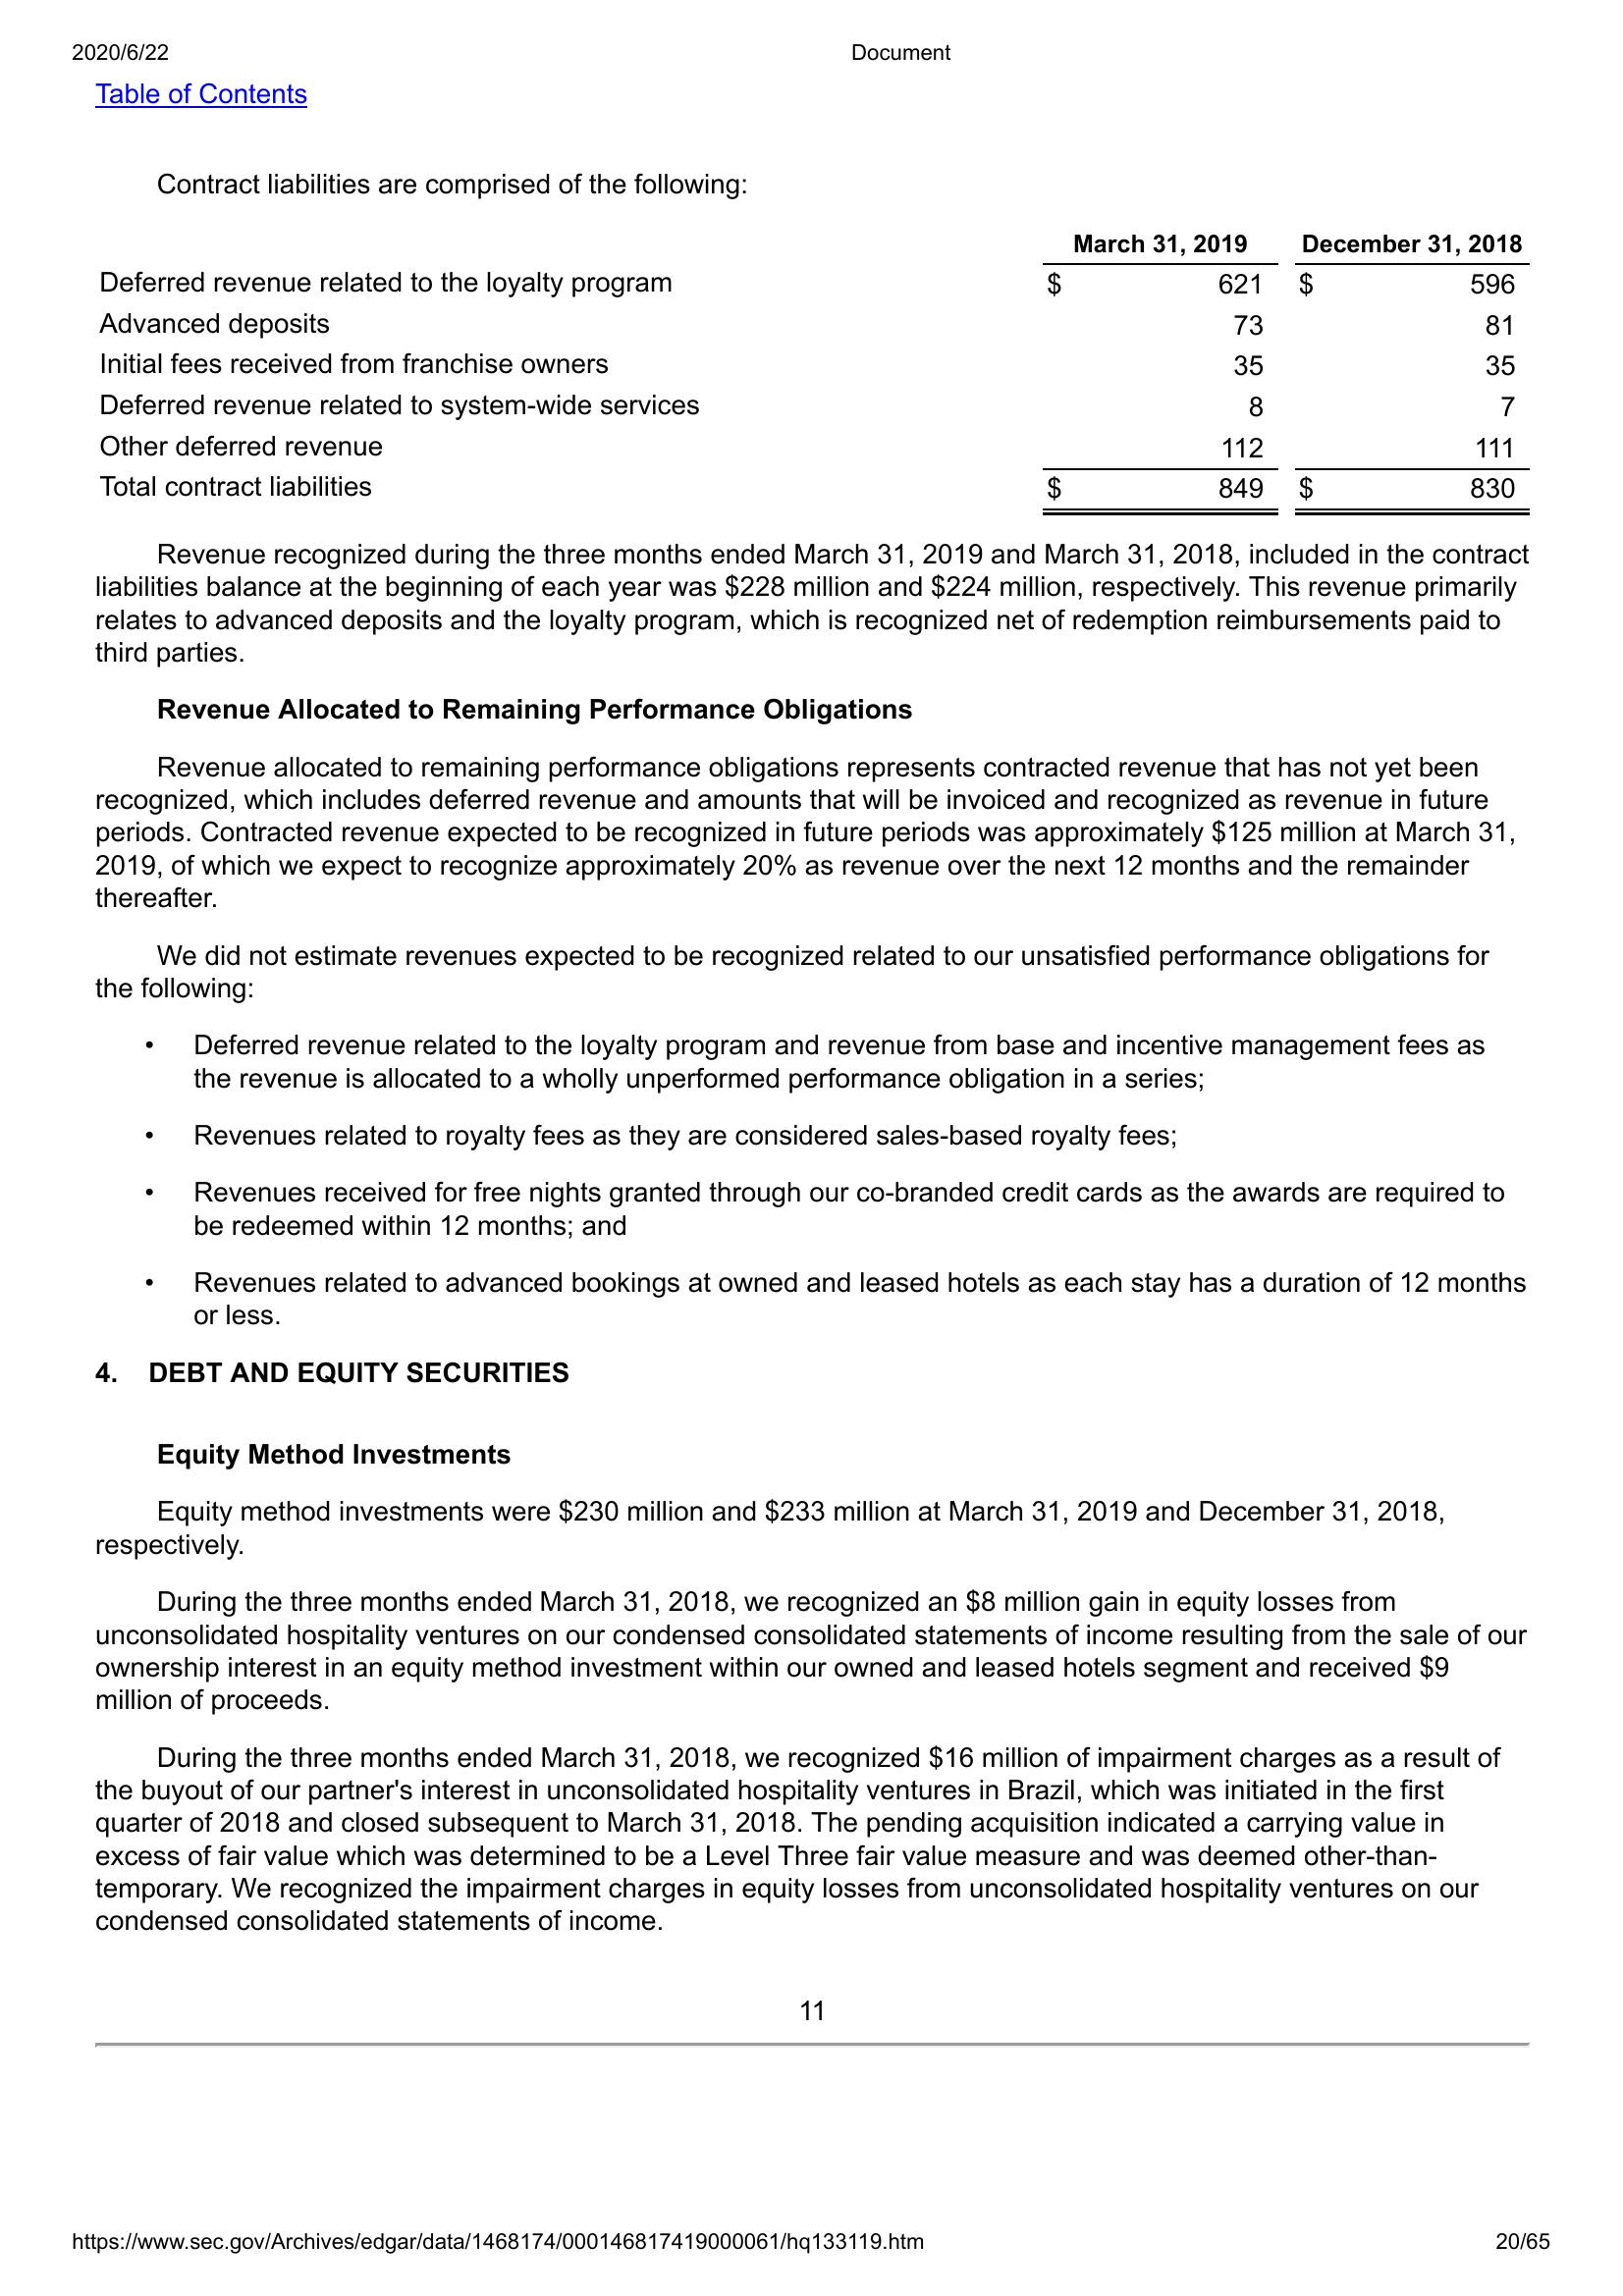table: (88, 221, 1539, 523)
